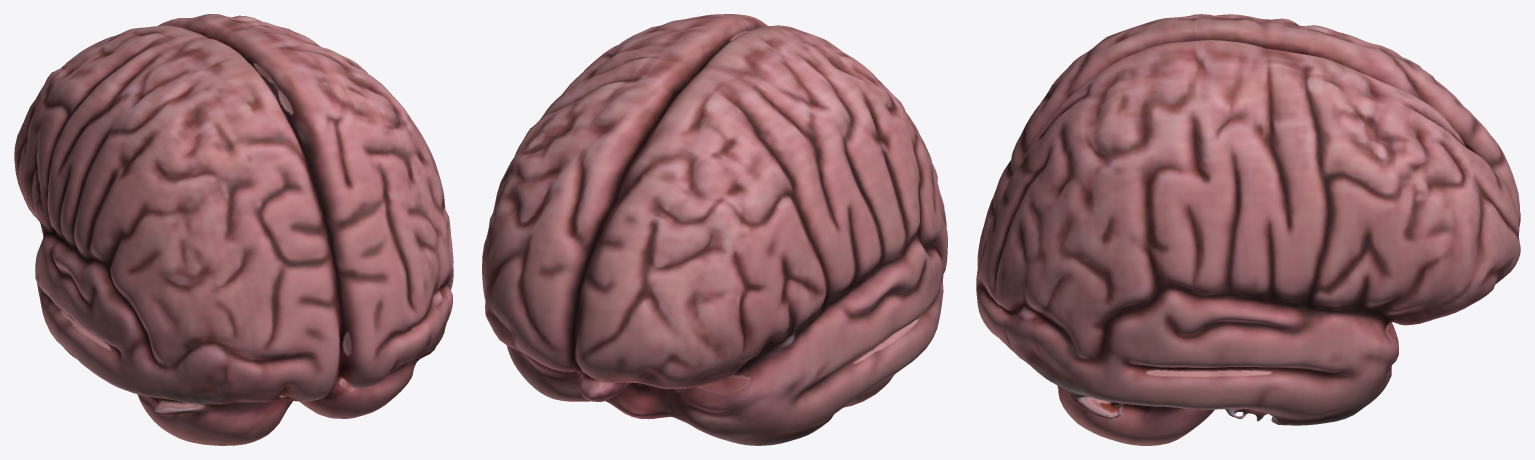
File: brain2.glb
The picture shows the model from 3 angles, left to right: view 1: azimuth 30°, elevation 25°; view 2: azimuth 150°, elevation 25°; view 3: azimuth 270°, elevation 25°; orthographic projection. The views are drawn at different scales.
Parts seen in each view (by area): view 1: mesh; view 2: mesh; view 3: mesh.
Part boxes in pixels (x1=…): mesh: x1=14, y1=14, x2=453, y2=445; mesh: x1=482, y1=14, x2=947, y2=445; mesh: x1=976, y1=14, x2=1520, y2=445.
Size of the model in its own units: 0.764 by 0.746 by 0.9992.
1 material, 1 textured.
